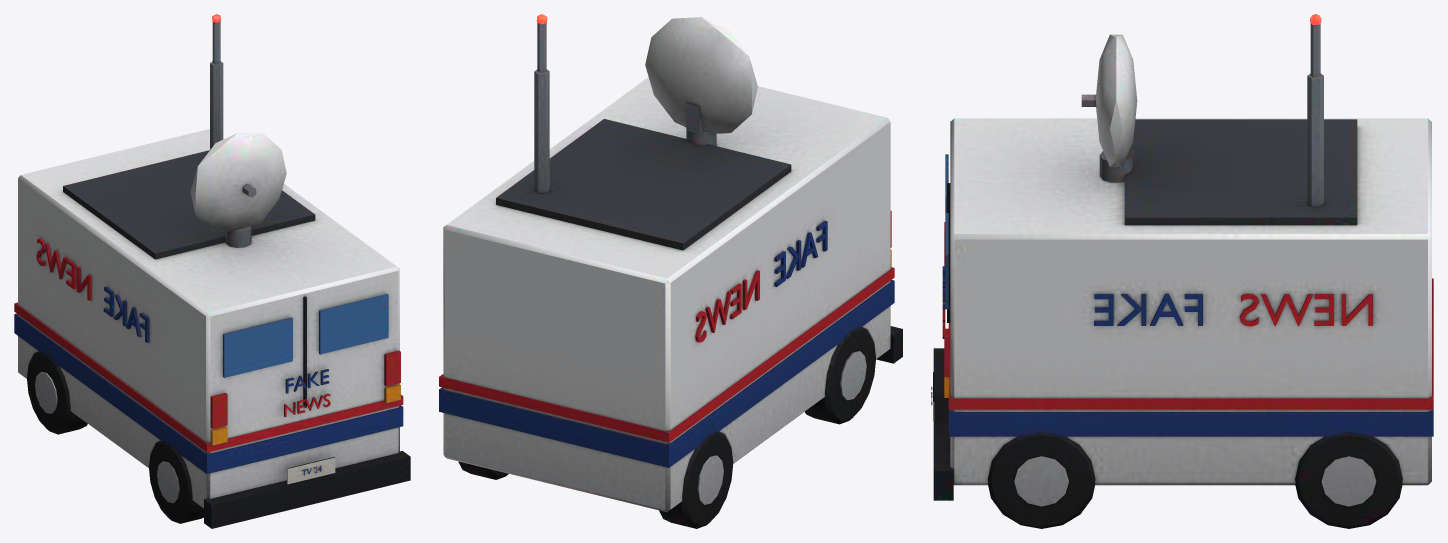
The model's file is furgoneta_fake.glb.
The picture shows the model from 3 angles, left to right: view 1: azimuth 30°, elevation 25°; view 2: azimuth 150°, elevation 25°; view 3: azimuth 270°, elevation 25°; orthographic projection. The views are drawn at different scales.
Parts seen in each view (by area): view 1: furgoneta_fake; view 2: furgoneta_fake; view 3: furgoneta_fake.
Boxes of the visible parts, x1,y1,x2,y2 form: furgoneta_fake: (14,14,410,528); furgoneta_fake: (439,14,902,528); furgoneta_fake: (931,14,1433,528).
Bounding box in the file's own units: 1.76 × 3.26 × 3.02.
Materials: 1 (1 with a texture image).
